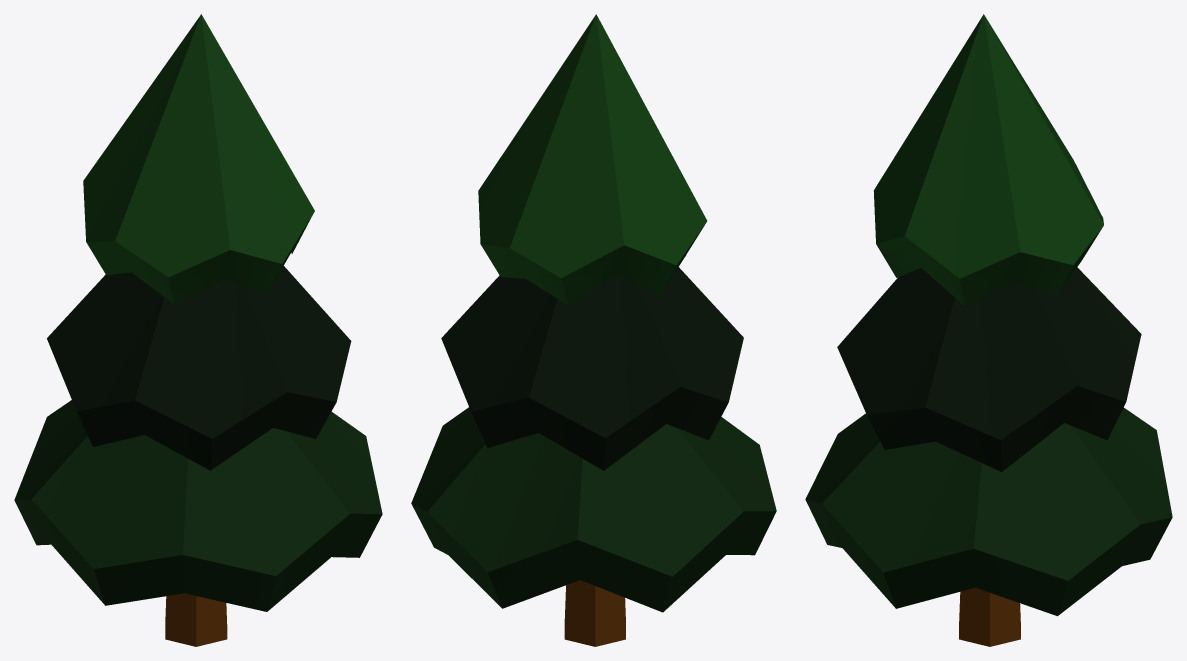
The model's file is SM__Coniferous__Tree__Growth__1.fbx.
The picture shows the model from 3 angles, left to right: view 1: azimuth 30°, elevation 25°; view 2: azimuth 150°, elevation 25°; view 3: azimuth 270°, elevation 25°; orthographic projection.
Parts seen in each view (by area): view 1: groupdelete5; view 2: groupdelete5; view 3: groupdelete5.
Part boxes in pixels (x1,y1,x2,y2): groupdelete5: (14, 14, 382, 646); groupdelete5: (411, 14, 776, 646); groupdelete5: (805, 14, 1172, 646).
Bounding box in the file's own units: 2.49 × 4.63 × 2.49.
